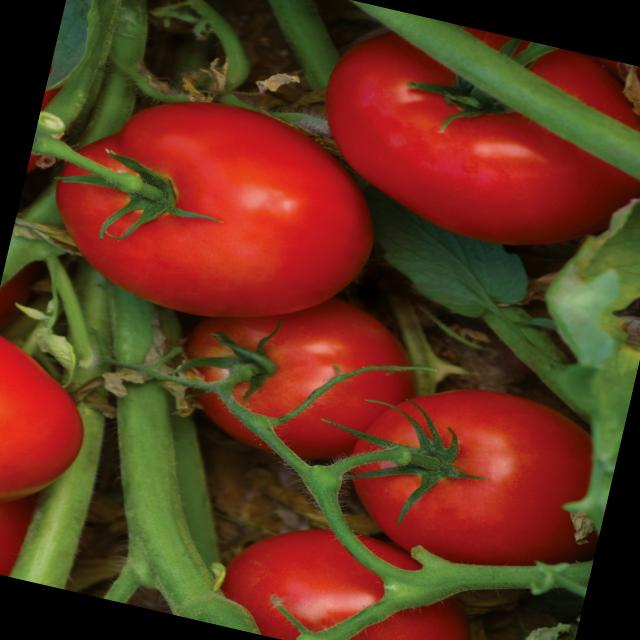tomato: (24, 70, 398, 340), (302, 0, 640, 265), (336, 358, 616, 590), (158, 267, 424, 485)
